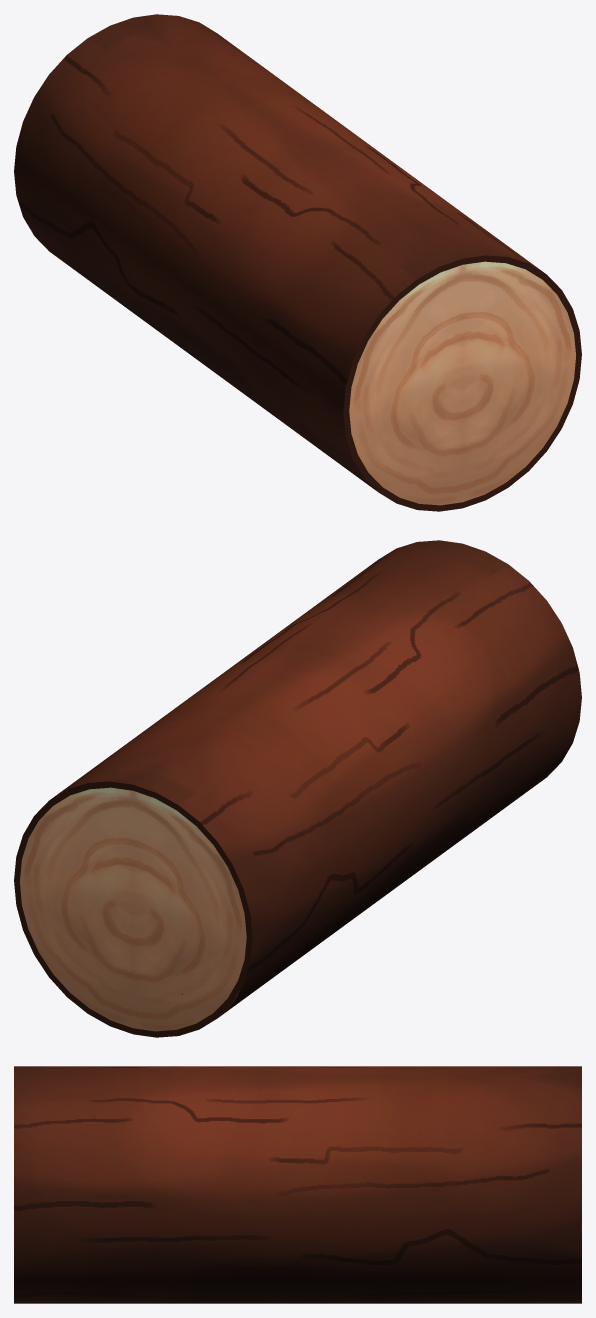
The model's file is Log1.fbx.
3 renders of one model, top to bottom at view 1: azimuth 30°, elevation 25°; view 2: azimuth 150°, elevation 25°; view 3: azimuth 270°, elevation 25°, orthographic. The views are drawn at different scales.
Visible parts, largest first — view 1: Log1; view 2: Log1; view 3: Log1.
Part boxes in pixels (box(x1,y1,x2,y2)): Log1: box(14, 14, 581, 511); Log1: box(14, 540, 581, 1037); Log1: box(14, 1066, 581, 1303).
Bounding box in the file's own units: 37.17 × 37.17 × 88.88.
Materials: 1 (1 with a texture image).
